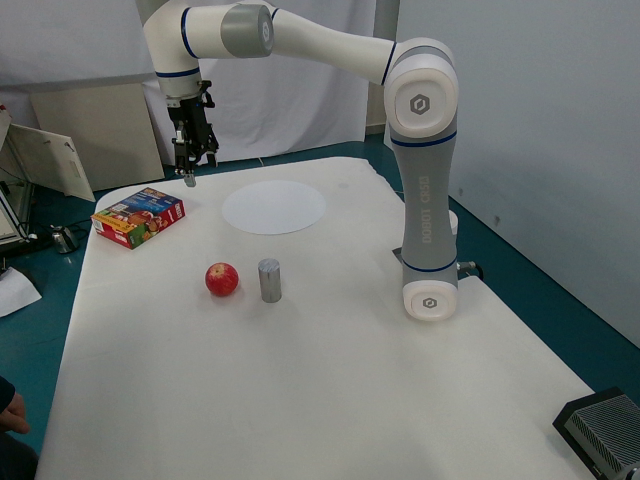apple: (200, 255, 241, 299)
metalROD: (248, 251, 287, 311)
